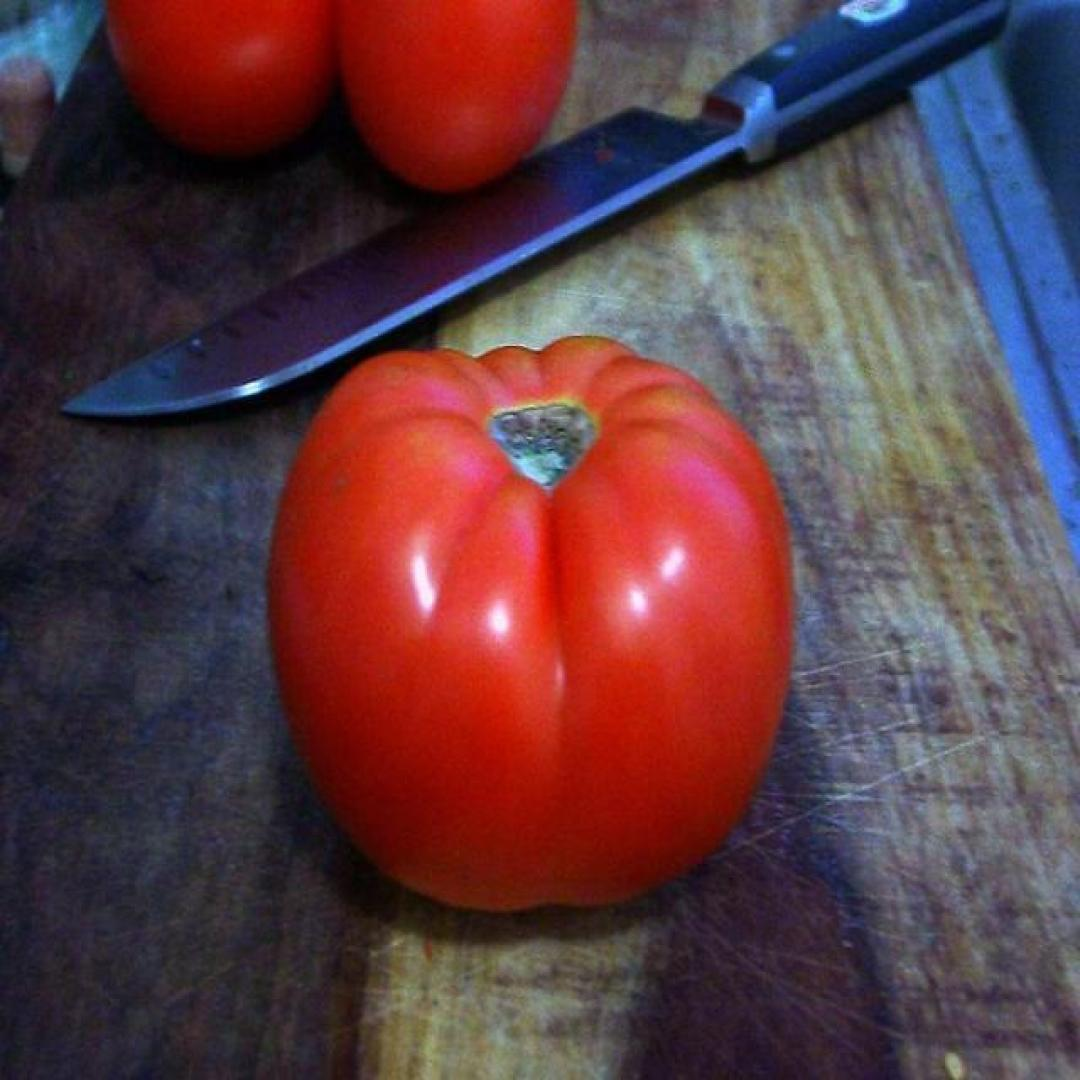matang: (263, 333, 793, 914)
